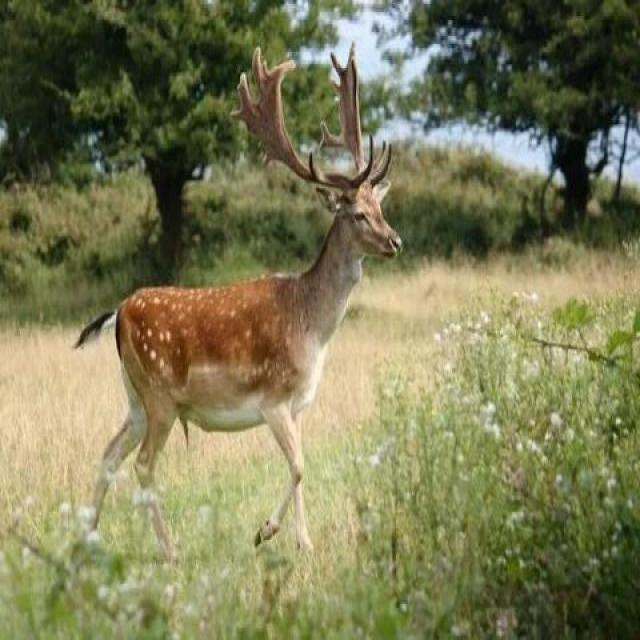deer: (90, 86, 456, 573)
